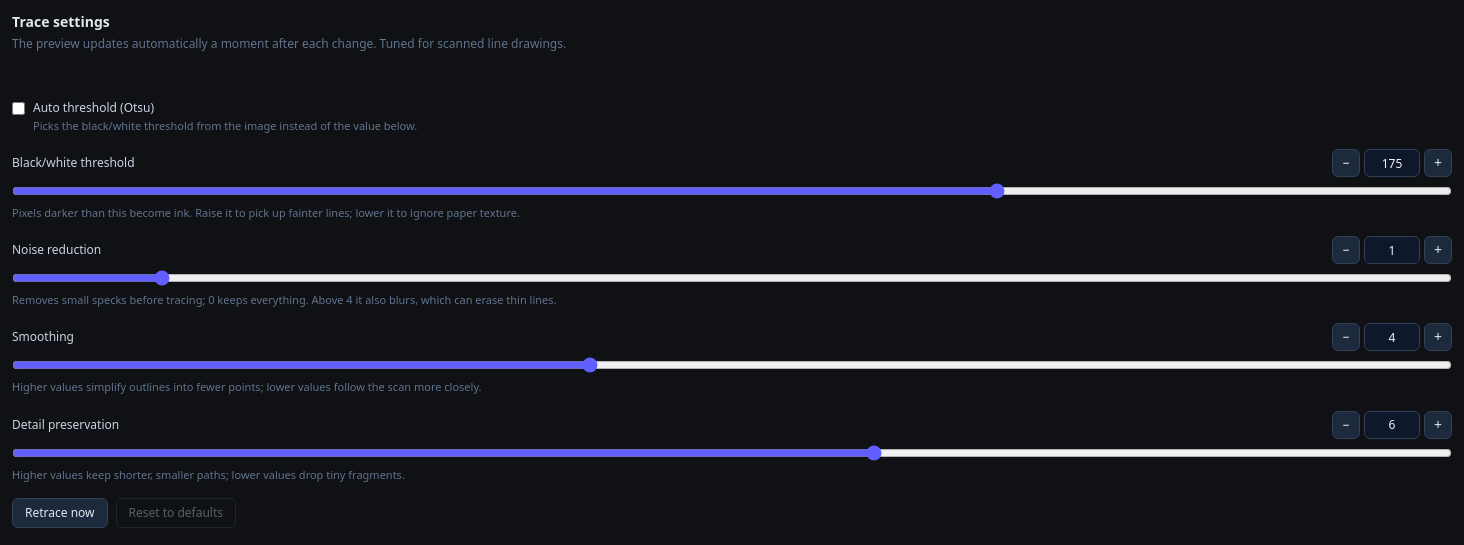
Test case: TracingControls › disables the threshold controls while Auto threshold is on, and leaves the others usable
This screenshot has width=1464, height=545.
Click the checkbox labelled "Auto threshold": coordinates (18, 108) 12,102 -> 25,115
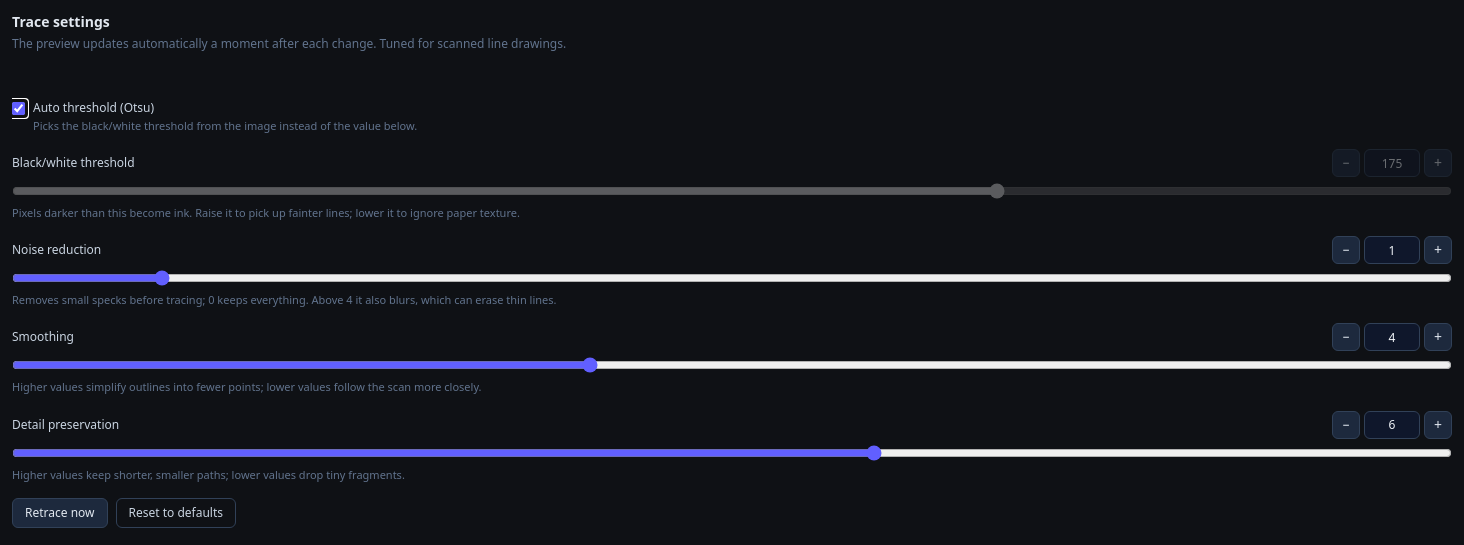
Check: the button named "Increase Black/white threshold" is disabled, box 1424,149 -> 1452,177
Check: the field labelled "Black/white threshold" is disabled, box 1364,149 -> 1420,177
